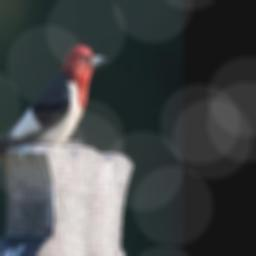Woodpecker: (0, 41, 112, 168)
